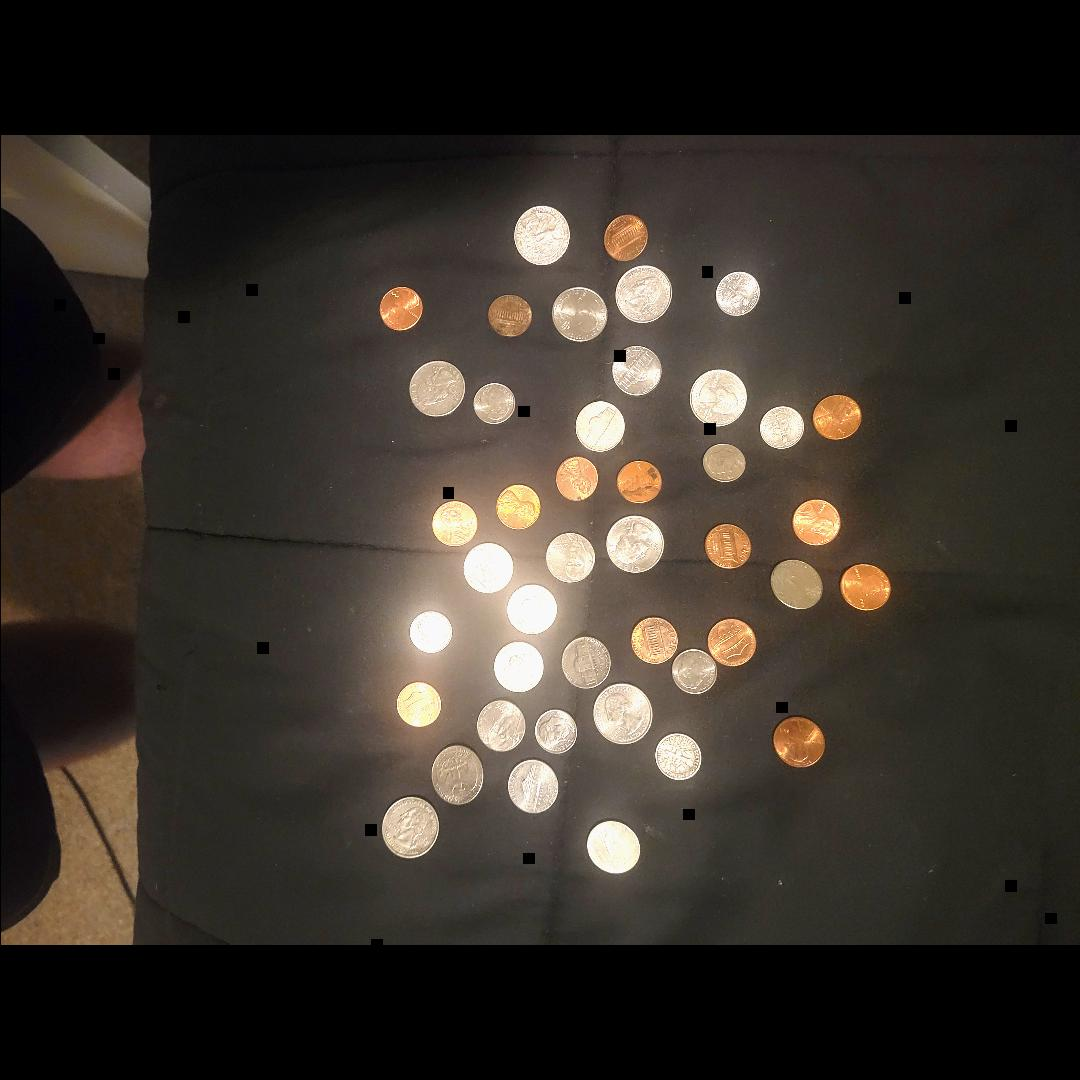Dime: (652, 733, 706, 785), (708, 268, 762, 318), (530, 708, 582, 758), (468, 379, 518, 427), (754, 404, 805, 450), (700, 440, 749, 484), (672, 650, 716, 696), (410, 608, 454, 654)
Nickel: (501, 580, 563, 642), (500, 757, 560, 819), (580, 820, 642, 878), (558, 630, 616, 692), (492, 638, 550, 696), (572, 400, 630, 458), (537, 532, 597, 588), (608, 342, 666, 399), (770, 555, 828, 611), (458, 544, 514, 600), (476, 697, 530, 753)
Penny: (624, 613, 682, 669), (770, 714, 829, 768), (838, 561, 896, 613), (428, 497, 482, 550), (494, 480, 545, 536), (811, 391, 867, 441), (700, 620, 758, 668), (791, 496, 846, 546), (372, 283, 426, 333), (700, 523, 750, 573), (603, 215, 652, 265), (393, 682, 444, 730), (617, 459, 667, 507), (550, 456, 598, 506), (486, 292, 538, 338)
Quarter: (585, 680, 655, 748), (377, 794, 445, 862), (512, 204, 578, 272), (601, 511, 669, 576), (550, 278, 614, 344), (612, 262, 676, 328), (424, 742, 488, 807), (406, 358, 470, 422), (688, 366, 752, 428)
